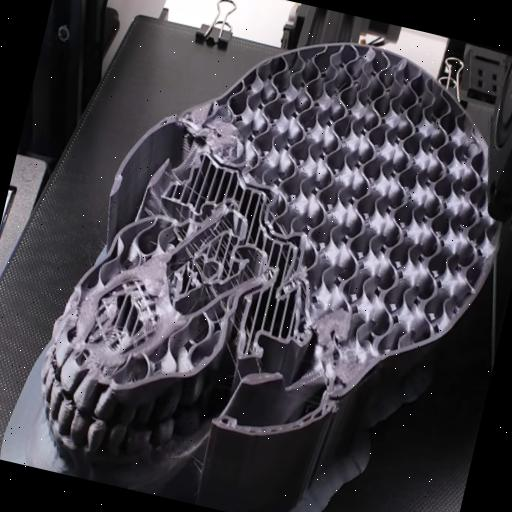stringing: (174, 204, 276, 318), (136, 164, 185, 237), (82, 318, 134, 380)
